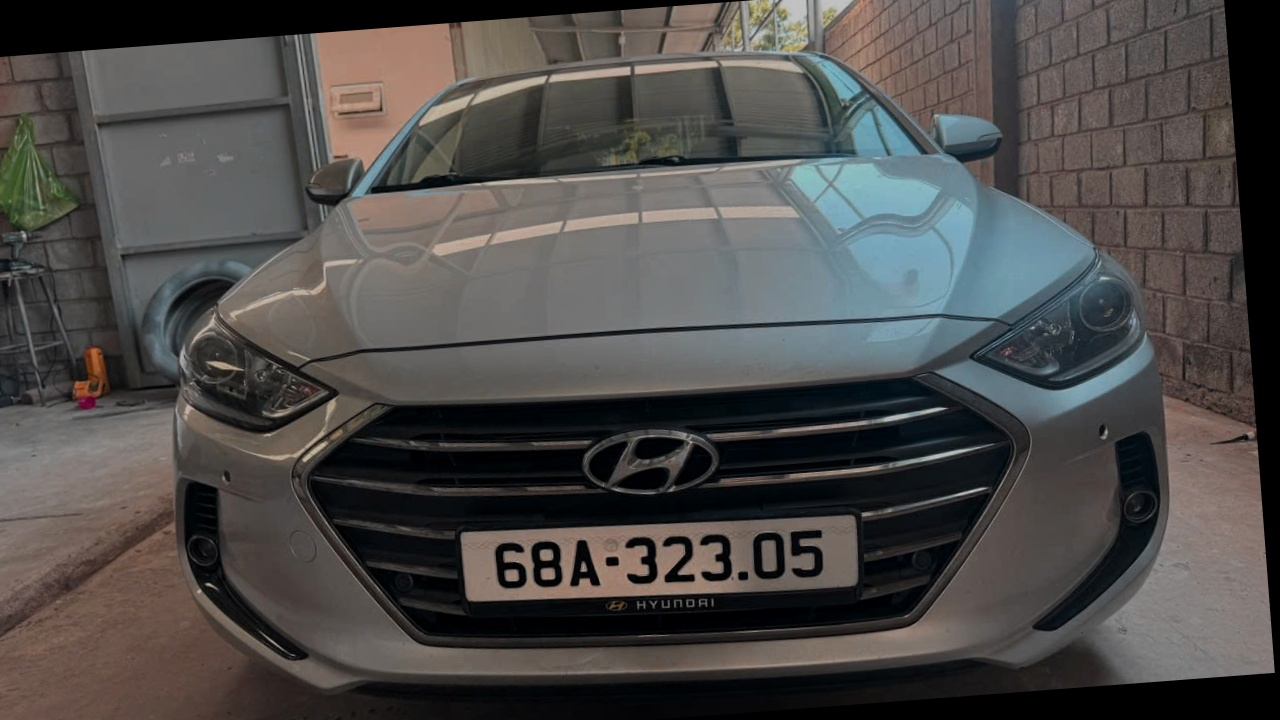Bien-so: (482, 507, 900, 624)
